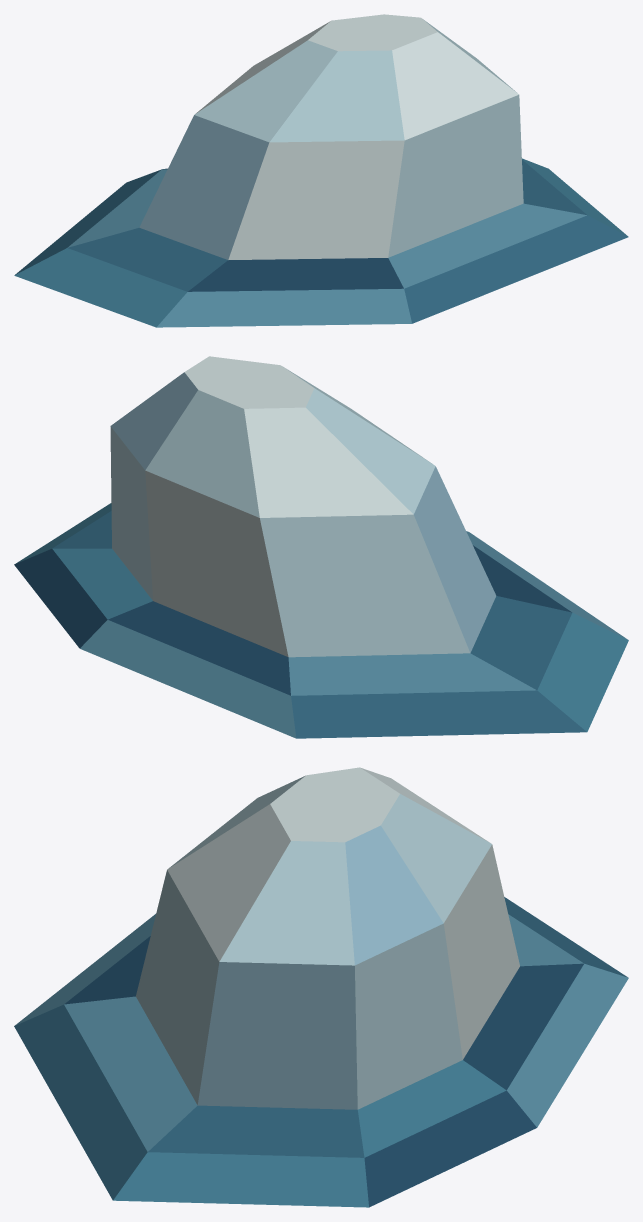
The model's file is drift.glb.
3 renders of one model, top to bottom at view 1: azimuth 30°, elevation 25°; view 2: azimuth 150°, elevation 25°; view 3: azimuth 270°, elevation 25°, orthographic. The views are drawn at different scales.
Visible parts, largest first — view 1: drift; view 2: drift; view 3: drift.
Part boxes in pixels (<box>): drift: <box>14,14,628,327</box>; drift: <box>14,356,628,738</box>; drift: <box>14,767,628,1207</box>.
Size of the model in its own units: 3.24 by 1.2 by 2.38.
